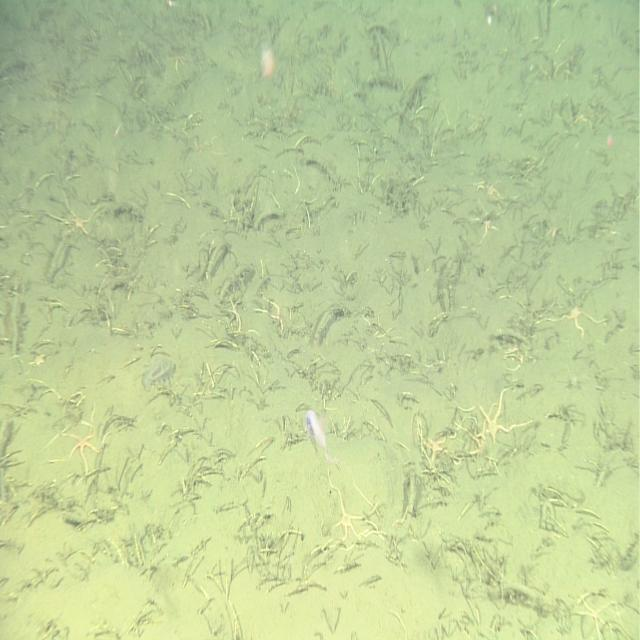Brittle Star: (320, 459, 381, 548), (474, 377, 534, 454), (547, 288, 608, 344), (46, 181, 98, 244), (59, 408, 102, 484)
Not Brittle Star: (301, 403, 339, 475), (140, 346, 180, 395)
